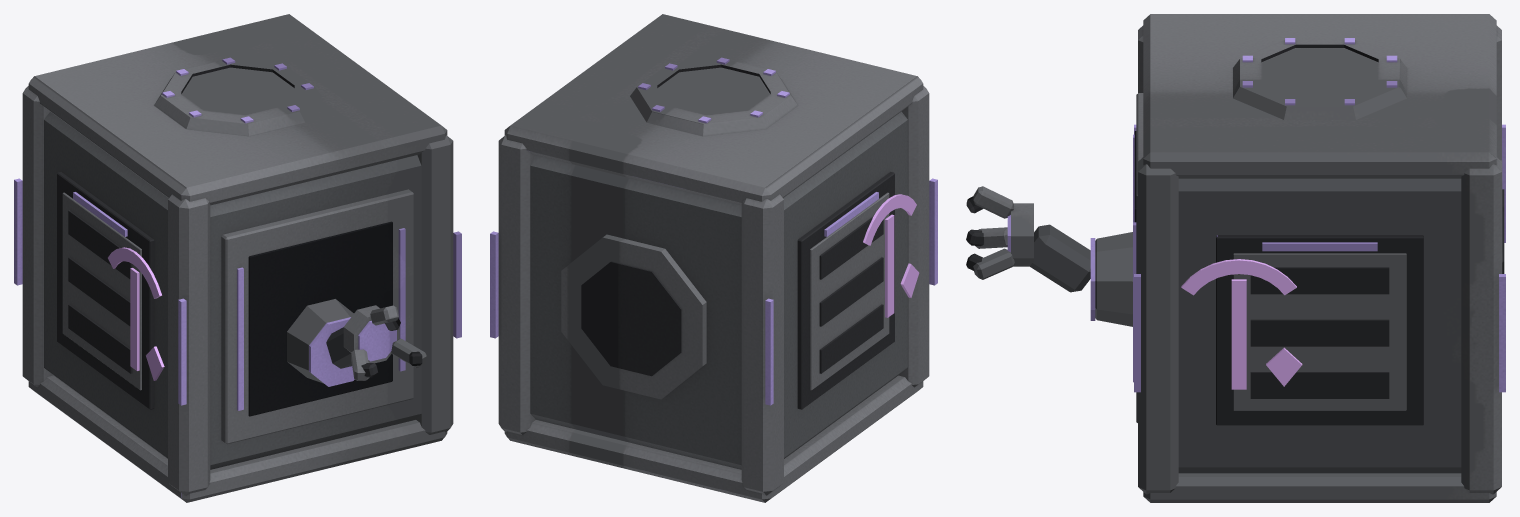
Rendered from SM_MiningDock.fbx.
The picture shows the model from 3 angles, left to right: view 1: azimuth 30°, elevation 25°; view 2: azimuth 150°, elevation 25°; view 3: azimuth 270°, elevation 25°; orthographic projection. The views are drawn at different scales.
Parts seen in each view (by area): view 1: SMN_MiningDock, Emblem_MiningDock; view 2: SMN_MiningDock, Emblem_MiningDock; view 3: SMN_MiningDock, Emblem_MiningDock_b.
Part boxes in pixels (box(x1,y1,x2,y2)): SMN_MiningDock: box(14, 14, 461, 502); Emblem_MiningDock: box(108, 247, 164, 380); SMN_MiningDock: box(490, 14, 937, 502); Emblem_MiningDock: box(863, 194, 919, 317); SMN_MiningDock: box(966, 14, 1505, 502); Emblem_MiningDock_b: box(1181, 259, 1302, 389).
Bounding box in the file's own units: 0.626 × 0.696 × 0.9349.
